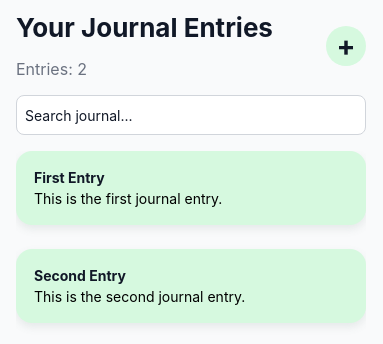
Scenario: JournalScreen › shows no entries when search query does not match
In the field with placeholder "Search journal...": [191, 115] box [16,95,366,135], type "Nonexistent"
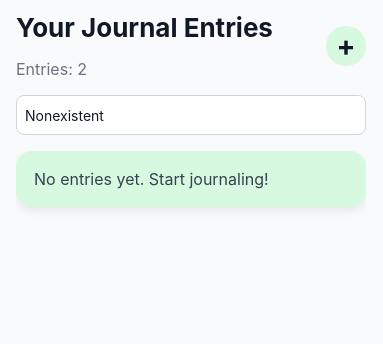
Check: the text "First Entry" is gone
Check: the text "Second Entry" is gone
